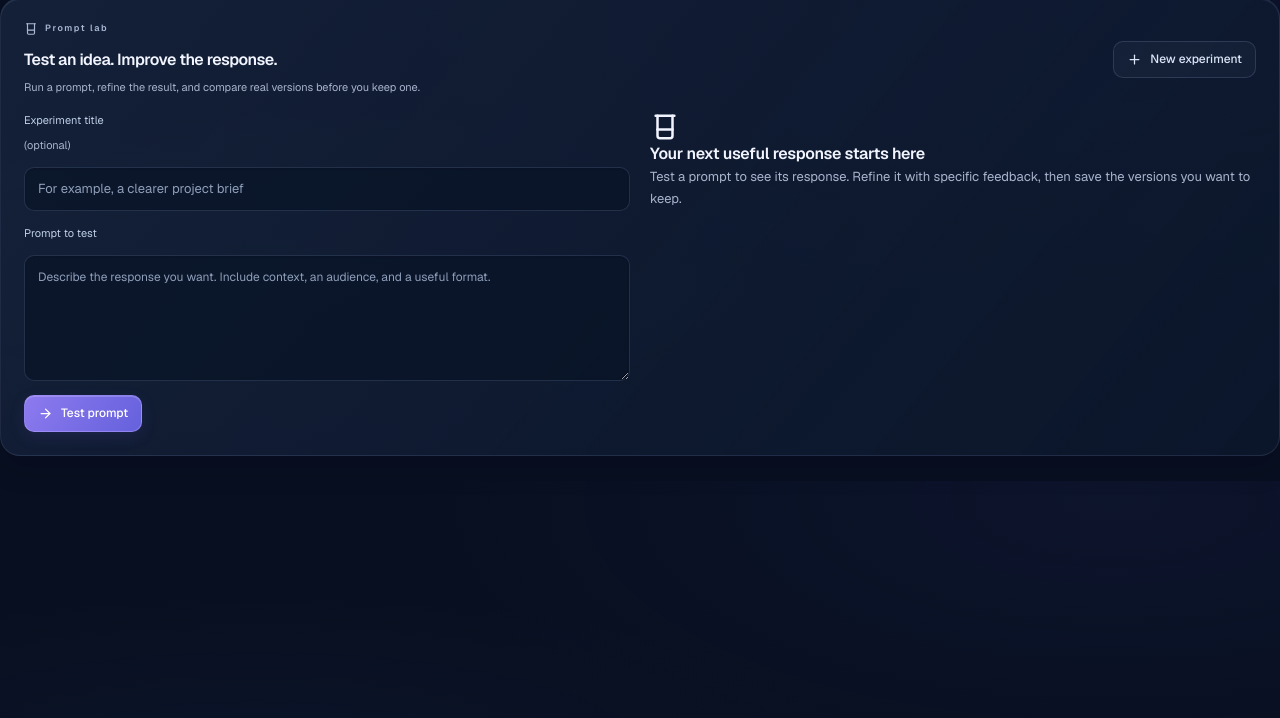
prompt experiment workspace › improves the prompt and keeps both actual prompt versions
This screenshot has width=1280, height=718.
Replace the text in the text box labelled "Prompt to test" with "Explain responsible AI." at x=327, y=318, box [24,255,630,381]
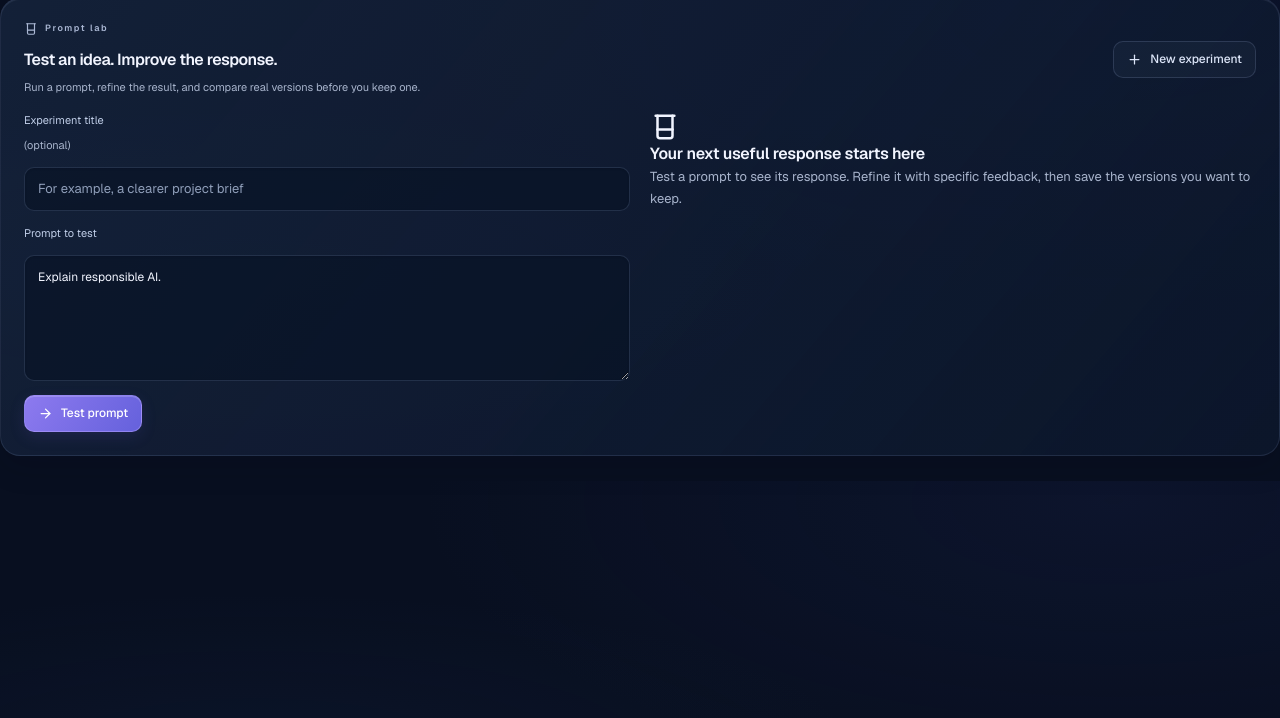
Click the button "Test prompt" at x=83, y=414, box [24,395,142,432]
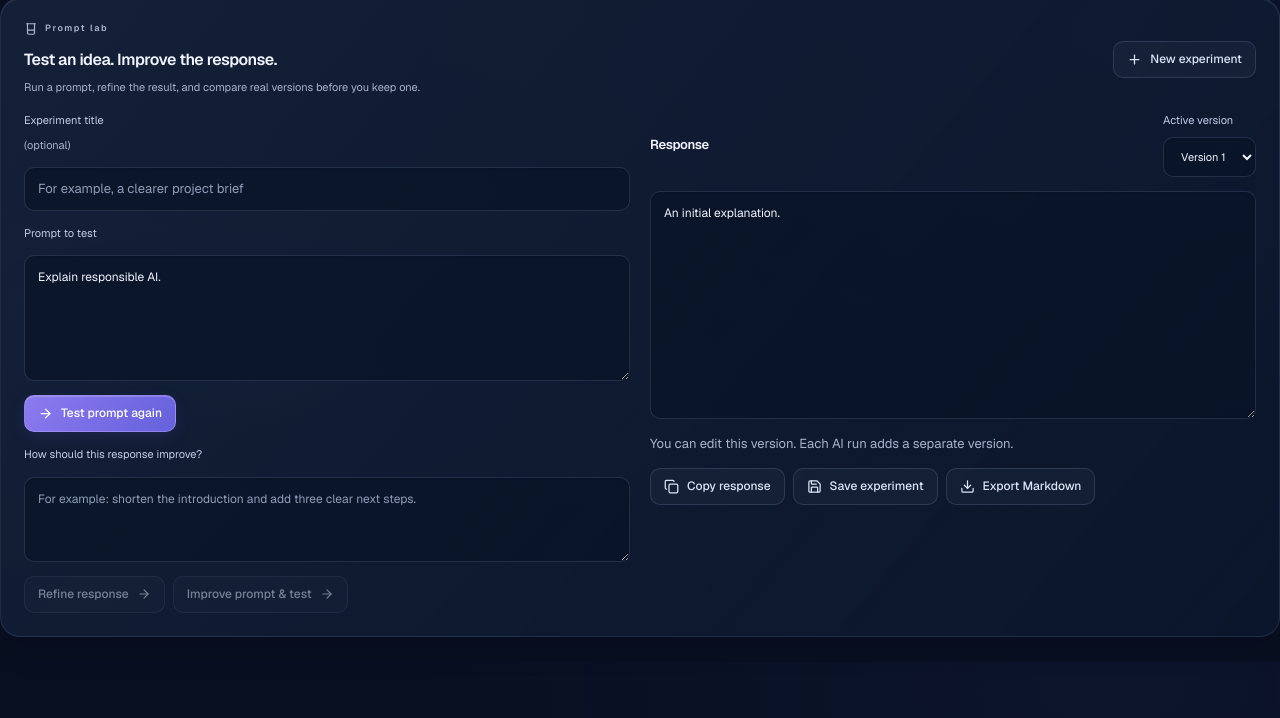
Expected: the text box named "Experiment response" is shown, [650,191,1256,418]
Replace the text in the text box labelled "How should this response improve?" with "Give three examples and specify a student audience." at x=327, y=519, box [24,477,630,562]
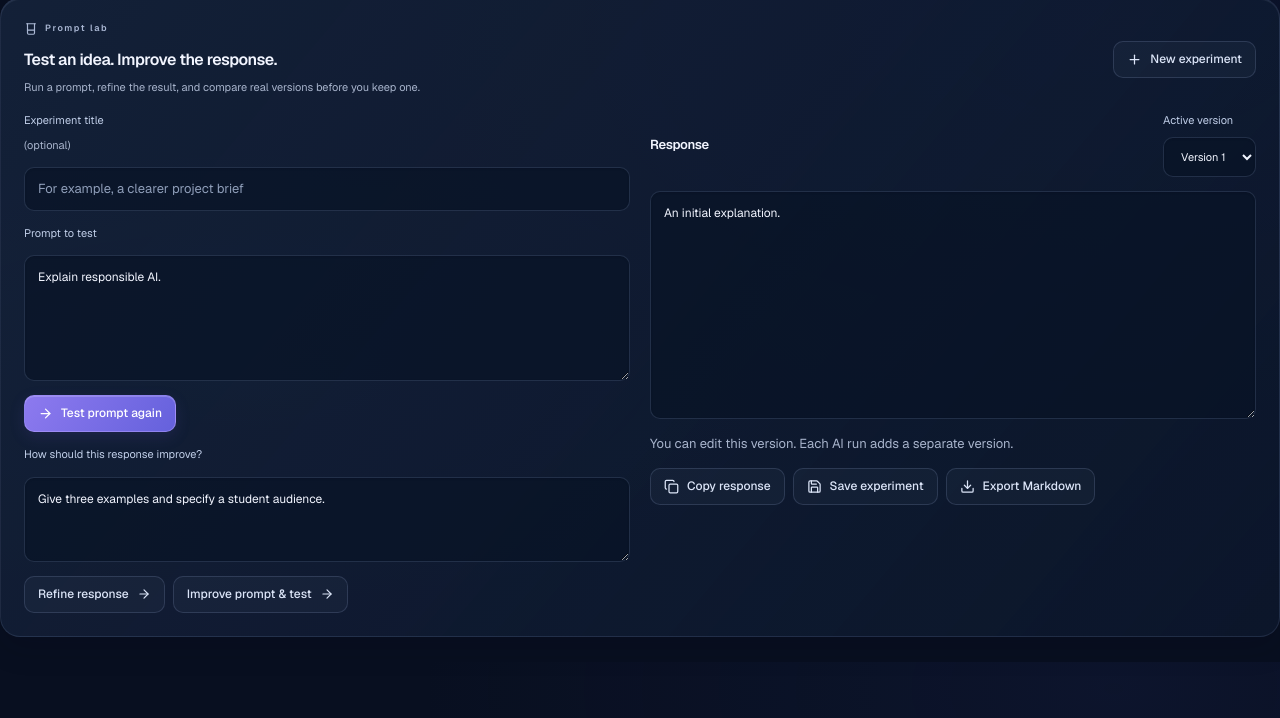
Click the button "Improve prompt & test" at x=260, y=594, box [173,576,348,613]
(page scrolled)
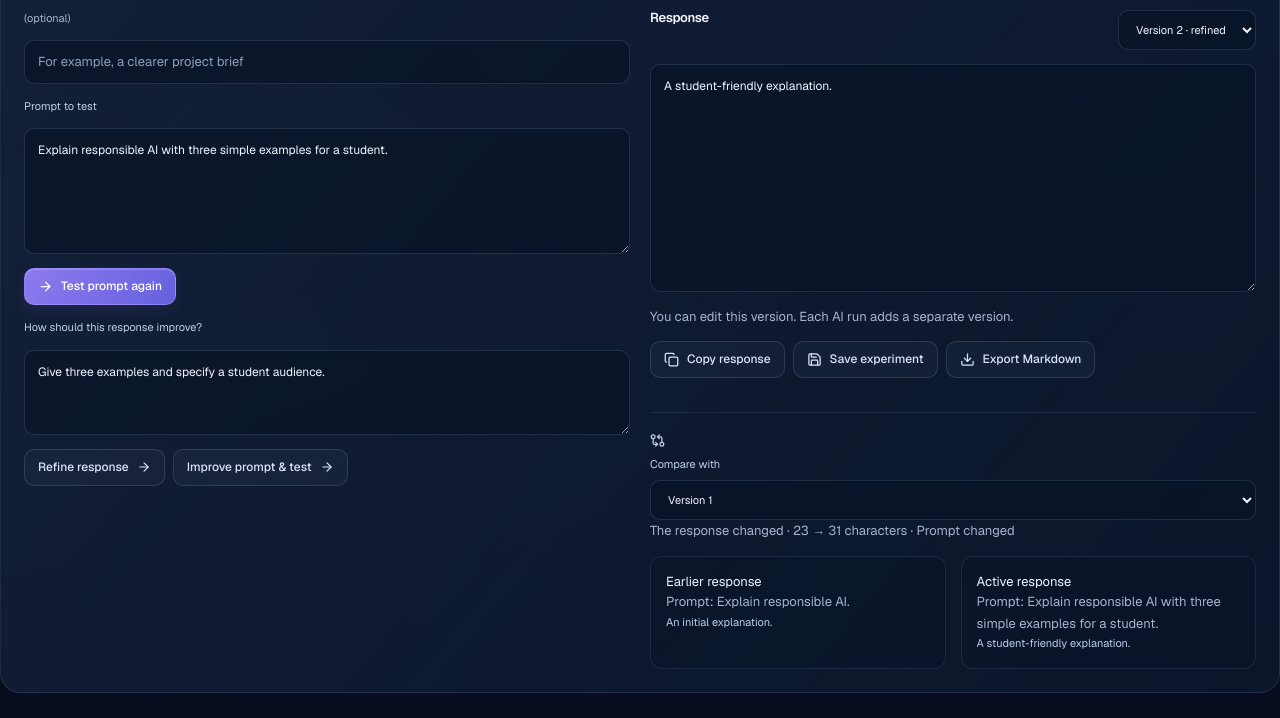
Expected: the text box labelled "Prompt to test" holds "Explain responsible AI with three simple examples for a student.", [24,128,630,254]
Expected: the text "Prompt: Explain responsible AI." is shown, [666,593,850,610]
